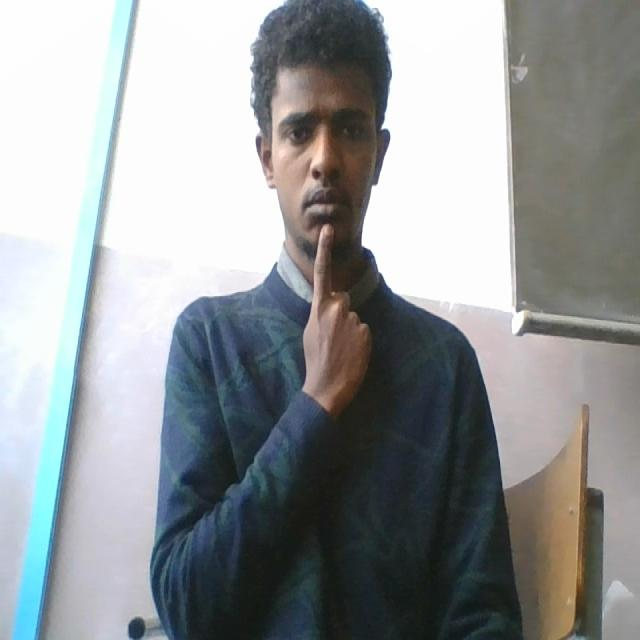lomi: (297, 202, 379, 436)
